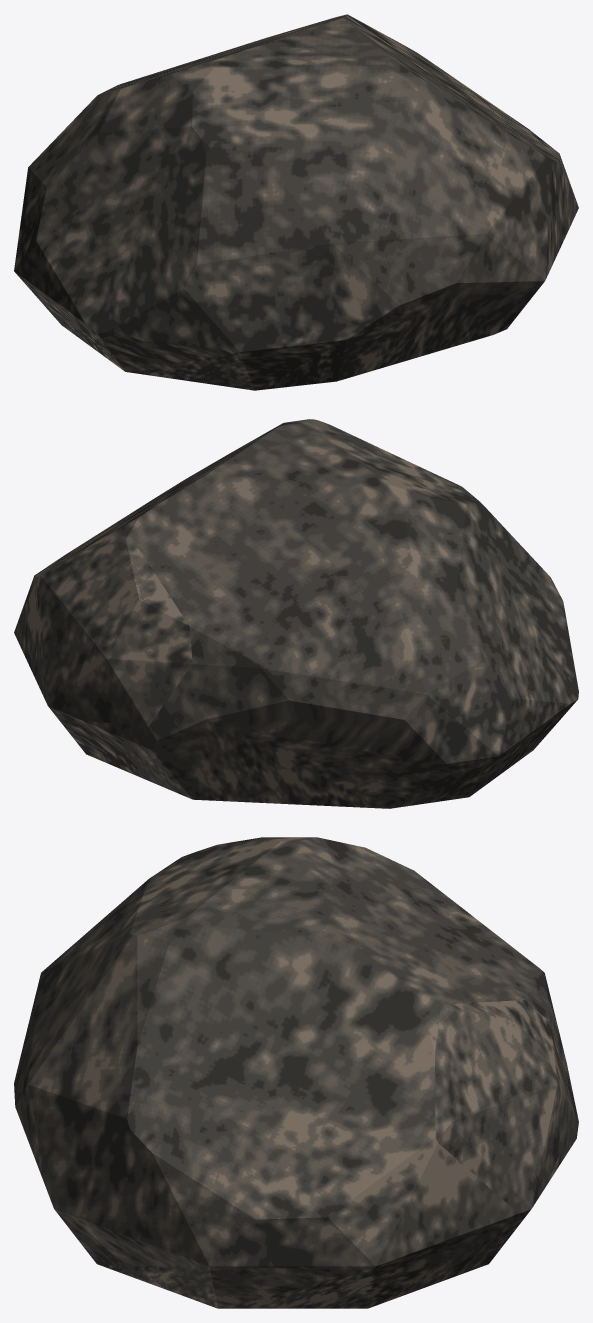
File: rock_1.fbx
The picture shows the model from 3 angles, top to bottom: view 1: azimuth 30°, elevation 25°; view 2: azimuth 150°, elevation 25°; view 3: azimuth 270°, elevation 25°; orthographic projection. The views are drawn at different scales.
Visible parts, largest first — view 1: Icosphere; view 2: Icosphere; view 3: Icosphere.
Part boxes in pixels (x1,y1,x2,y2): Icosphere: [14, 14, 578, 390]; Icosphere: [14, 419, 578, 808]; Icosphere: [14, 837, 578, 1308].
Bounding box in the file's own units: 880 × 751 × 440.
